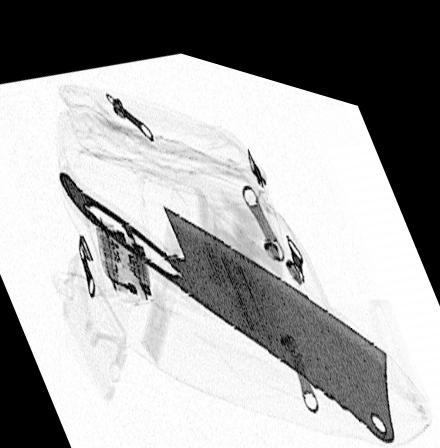Knife: (55, 165, 394, 423)
